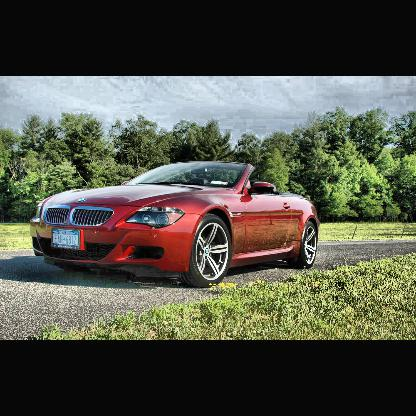BMW M6 Convertible 2010: (30, 162, 321, 288)
